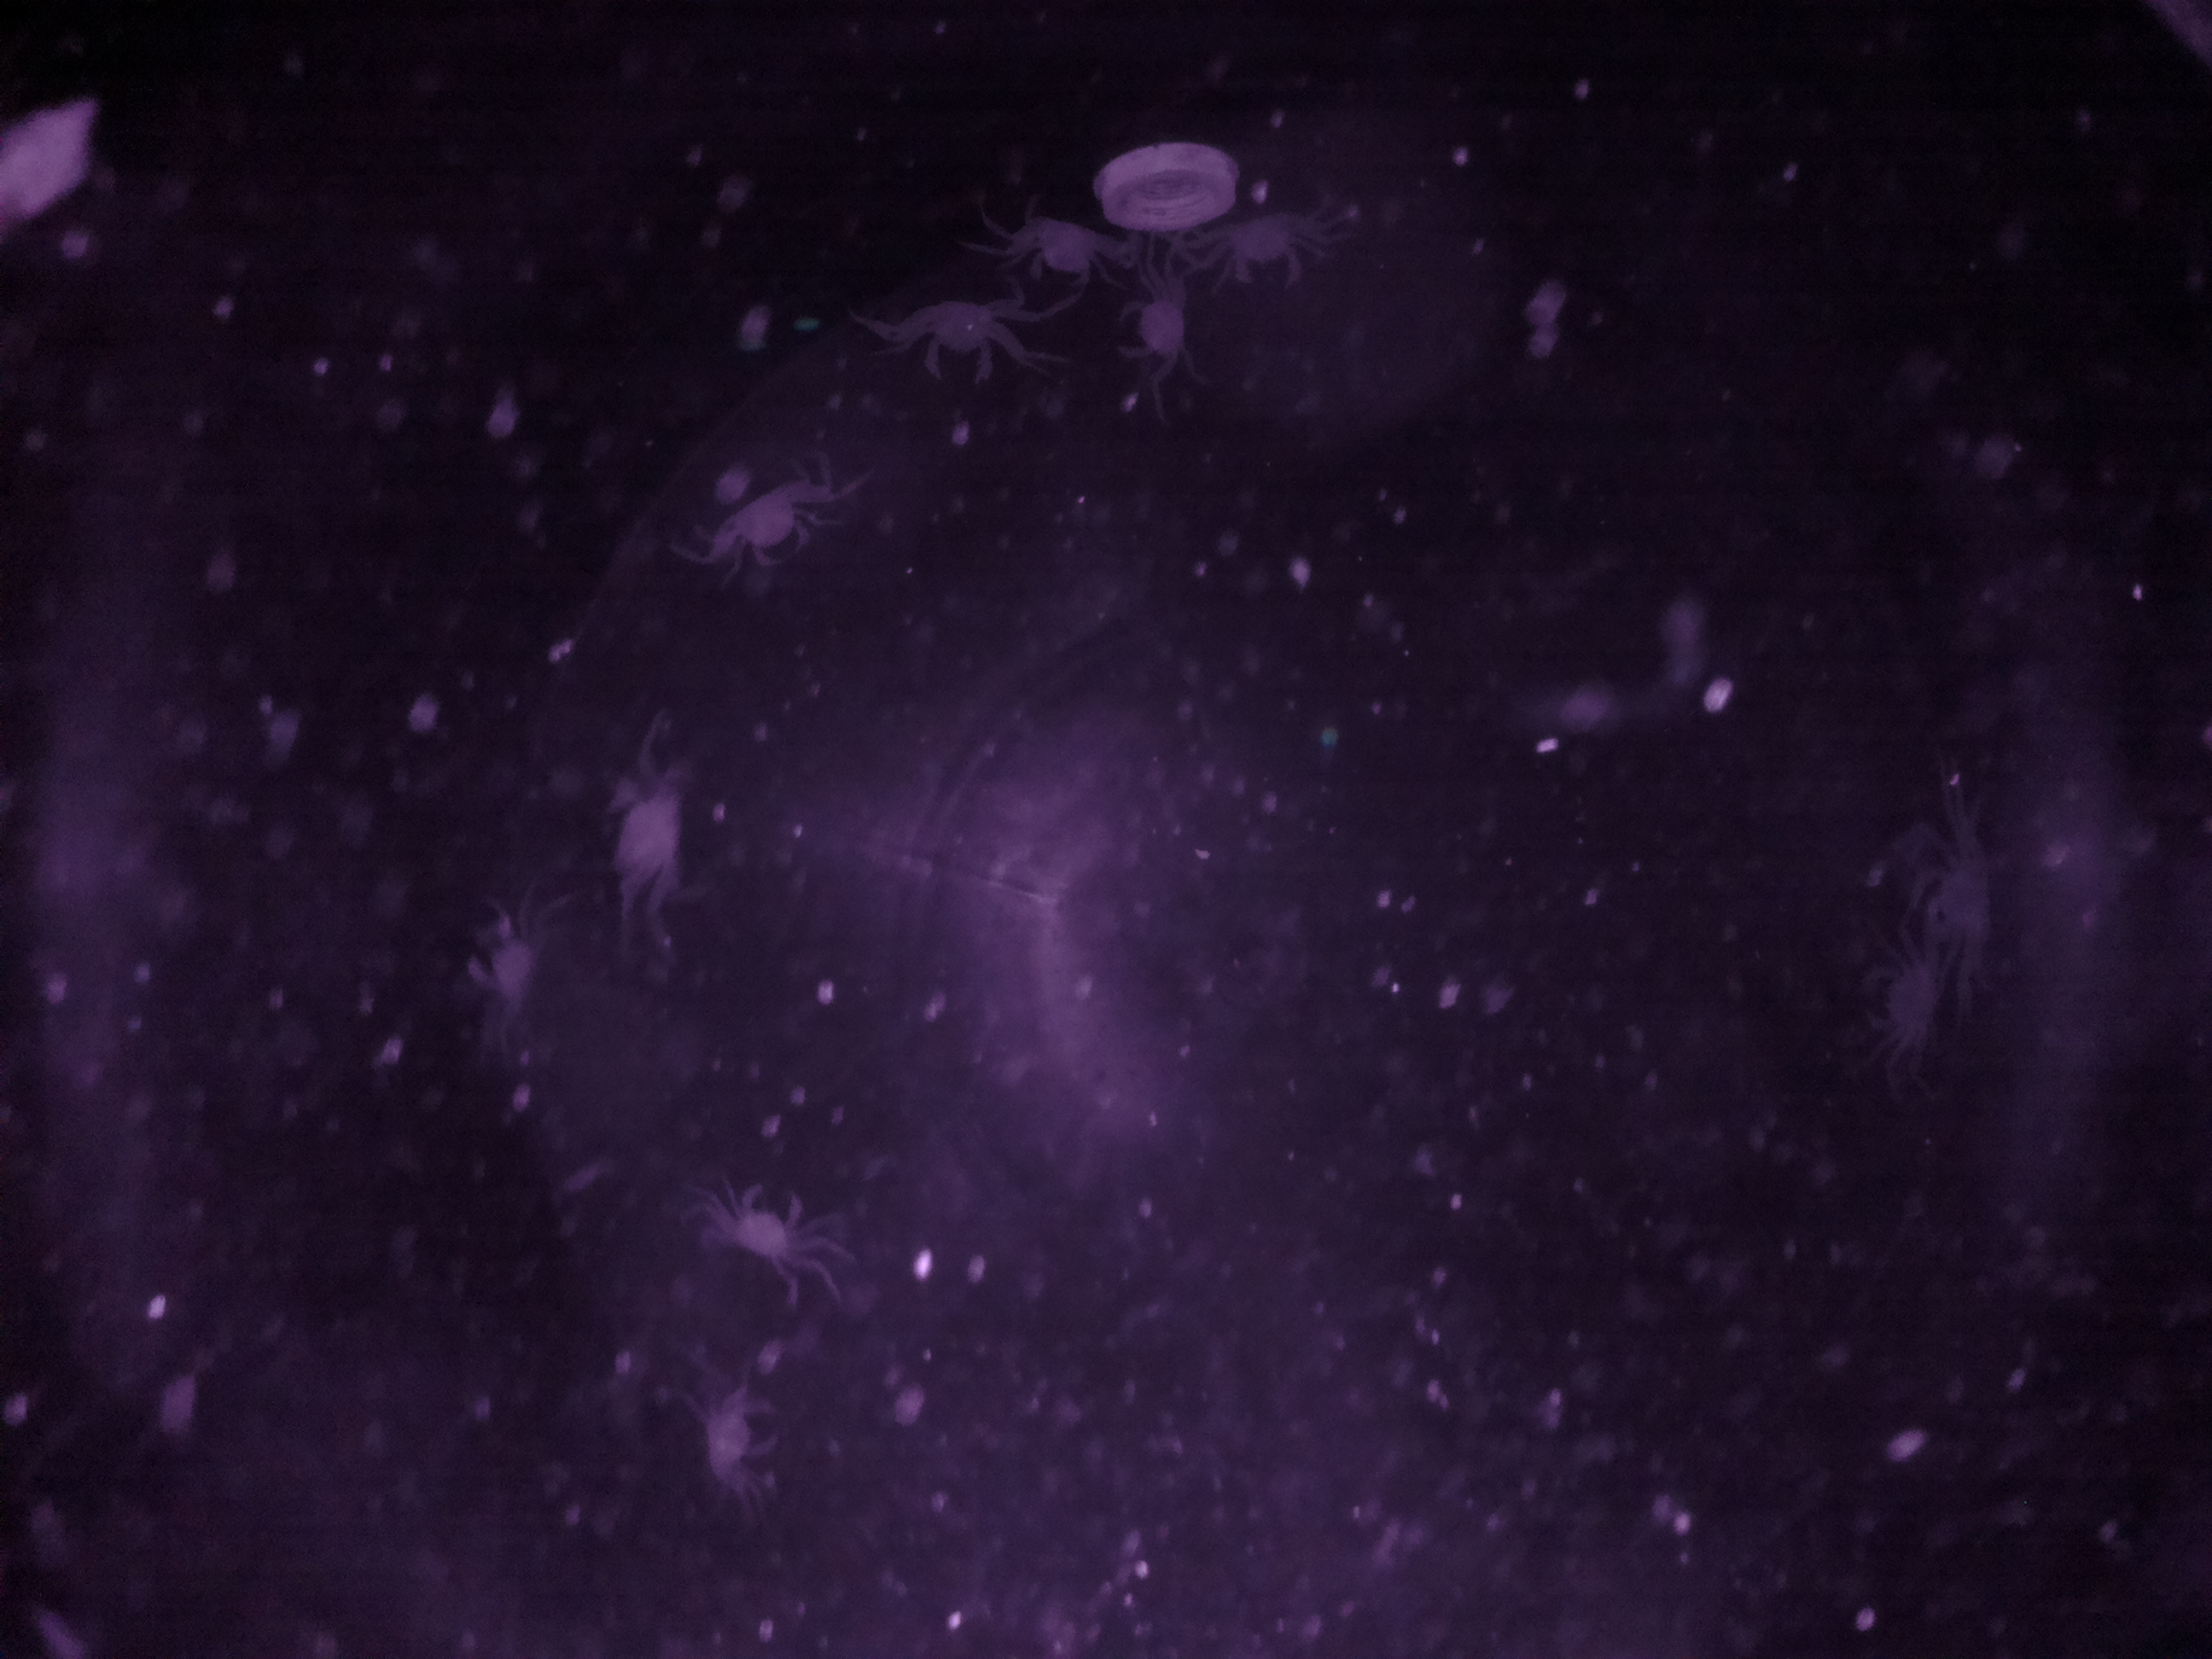Crab: (705, 464, 840, 584), (714, 1157, 826, 1290), (899, 275, 1012, 396), (1211, 185, 1318, 303)
